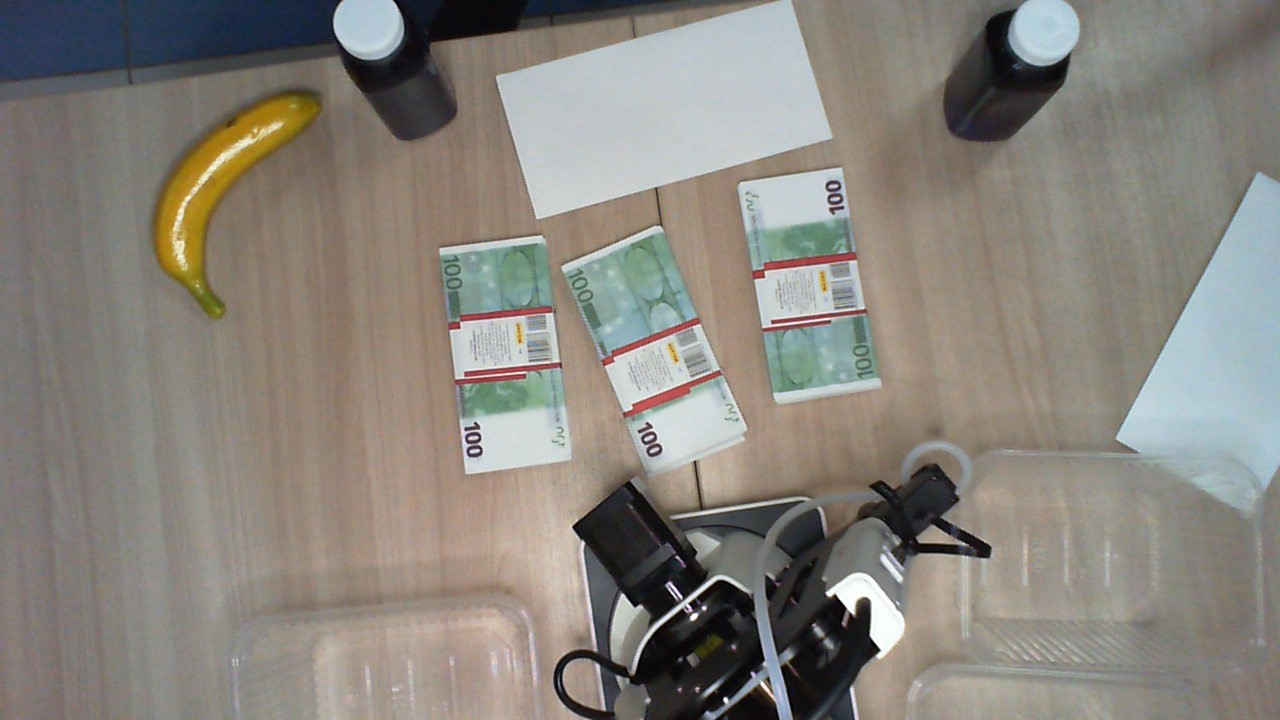banana: (151, 91, 323, 321)
bottle: (986, 1, 1082, 87), (332, 1, 421, 87)
convert: (493, 1, 834, 219), (1118, 167, 1278, 512)
money: (561, 224, 745, 474), (736, 165, 884, 409), (437, 235, 573, 481)
